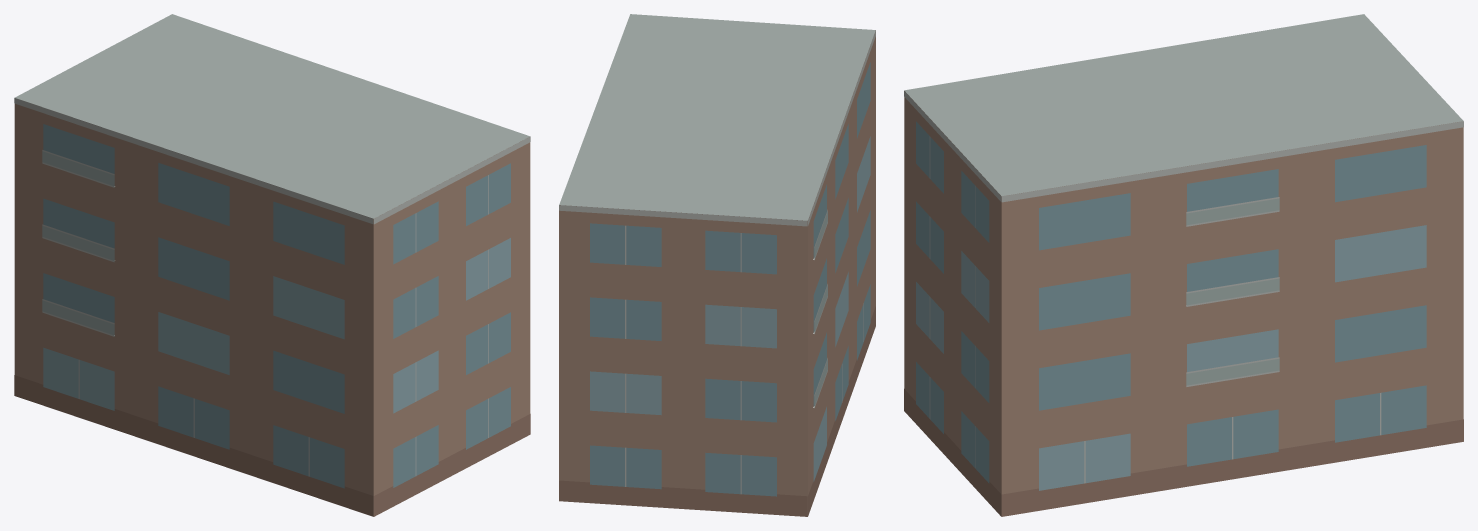
File: survey-upis-32736446.glb
3 views of the same model, side by side, from view 1: azimuth 30°, elevation 25°; view 2: azimuth 150°, elevation 25°; view 3: azimuth 270°, elevation 25° (orthographic). The views are drawn at different scales.
Parts seen in each view (by area): view 1: survey-upis-32736446.tmp; view 2: survey-upis-32736446.tmp; view 3: survey-upis-32736446.tmp.
Boxes of the visible parts, box(x1,y1,x2,y2) form: survey-upis-32736446.tmp: box(14, 14, 530, 516); survey-upis-32736446.tmp: box(559, 14, 875, 516); survey-upis-32736446.tmp: box(904, 14, 1463, 516).
Bounding box in the file's own units: 15.37 × 12.6 × 19.94.
